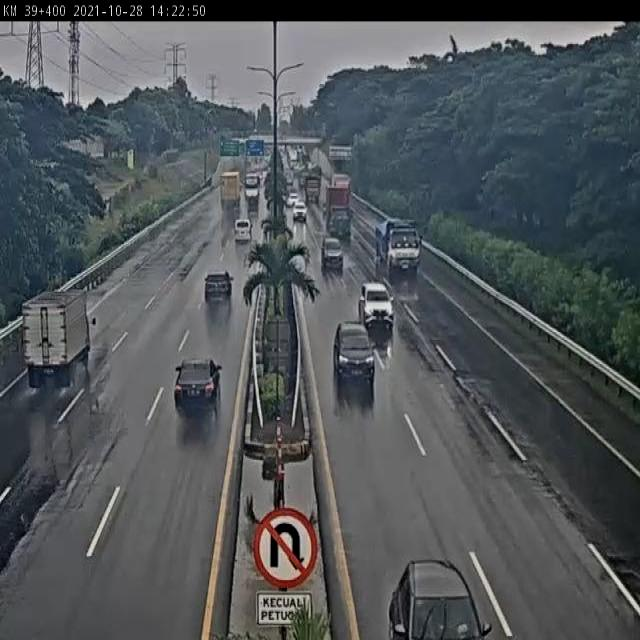Bus: (244, 176, 260, 210)
Car: (389, 558, 490, 636), (332, 320, 376, 400), (173, 358, 220, 416), (358, 280, 394, 332), (203, 271, 234, 309), (320, 236, 344, 270), (292, 200, 306, 222), (285, 192, 296, 207)
Truck: (20, 288, 92, 392), (376, 217, 422, 278), (324, 175, 352, 234), (220, 170, 242, 216), (304, 174, 322, 204)
Van: (234, 218, 253, 243)
